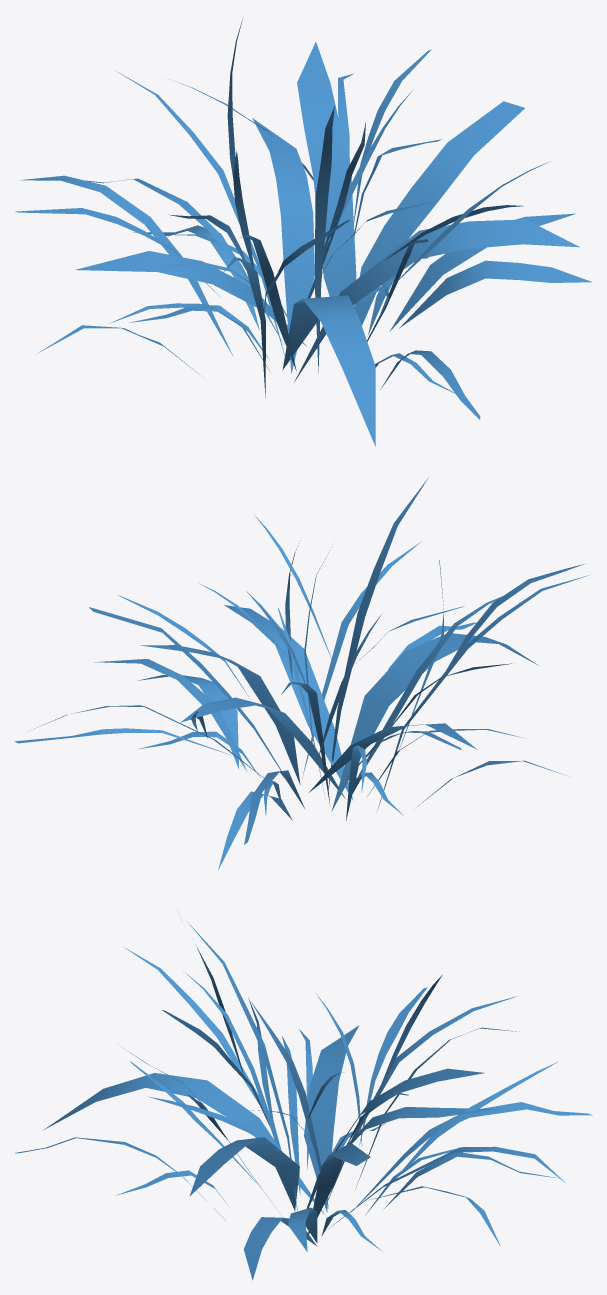
File: grass1.glb
The picture shows the model from 3 angles, top to bottom: view 1: azimuth 30°, elevation 25°; view 2: azimuth 150°, elevation 25°; view 3: azimuth 270°, elevation 25°; orthographic projection. The views are drawn at different scales.
Parts seen in each view (by area): view 1: grass1; view 2: grass1; view 3: grass1.
Part boxes in pixels (bbox=[...]): grass1: bbox=[15, 17, 592, 446]; grass1: bbox=[14, 477, 589, 870]; grass1: bbox=[15, 917, 592, 1280].
Size of the model in its own units: 2.32 by 1.39 by 2.49.
